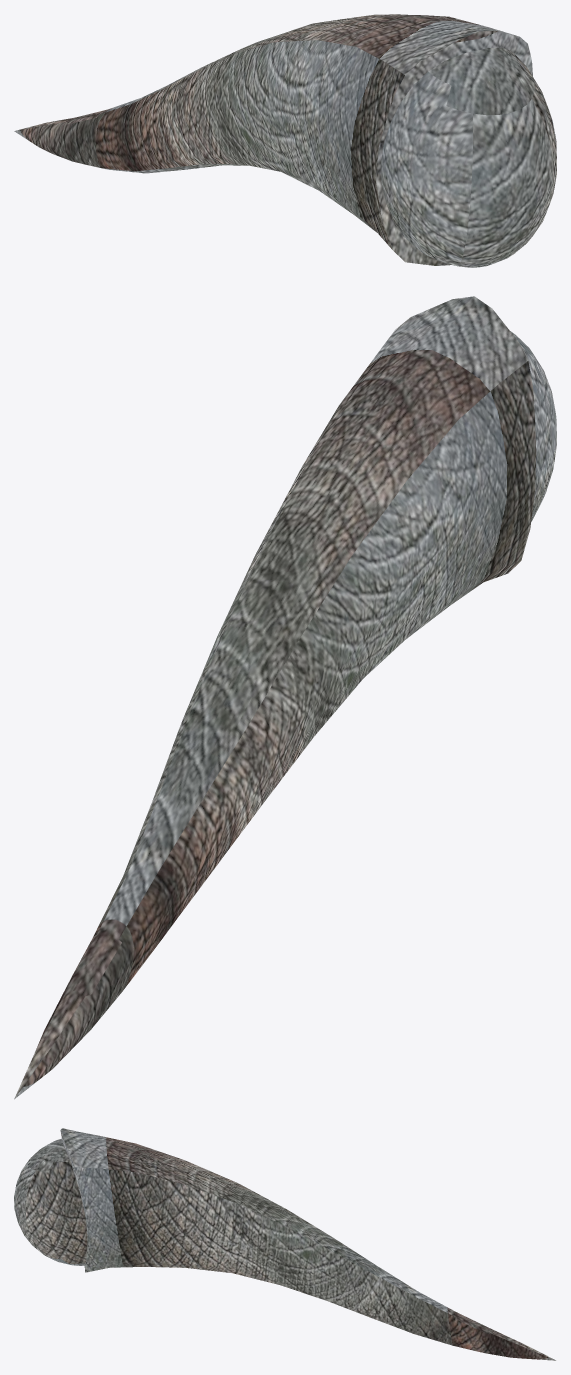
Rendered from Cola_JCA.obj.
3 views of the same model, one above another, from view 1: azimuth 30°, elevation 25°; view 2: azimuth 150°, elevation 25°; view 3: azimuth 270°, elevation 25° (orthographic). The views are drawn at different scales.
Parts seen in each view (by area): view 1: Cola; view 2: Cola; view 3: Cola.
Part boxes in pixels (box(x1,y1,x2,y2)): Cola: box(14, 14, 556, 267); Cola: box(14, 296, 556, 1099); Cola: box(14, 1128, 555, 1360).
Bounding box in the file's own units: 0.9298 × 2.37 × 4.97.
1 material, 1 textured.
